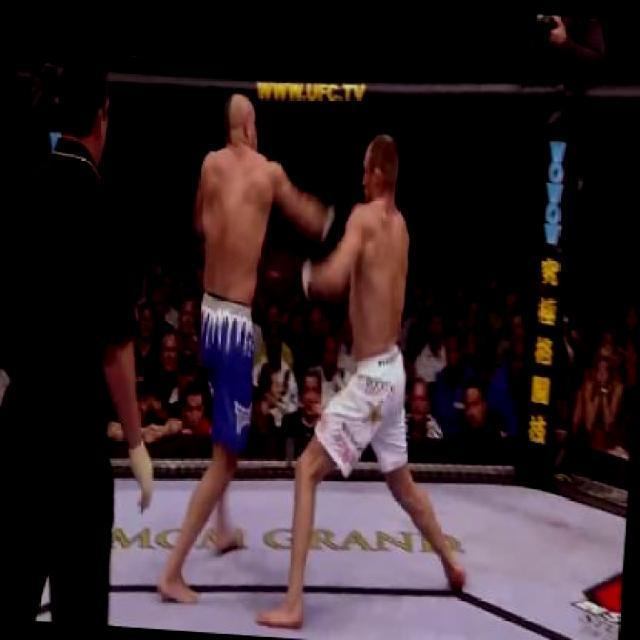fight: (165, 90, 432, 635)
